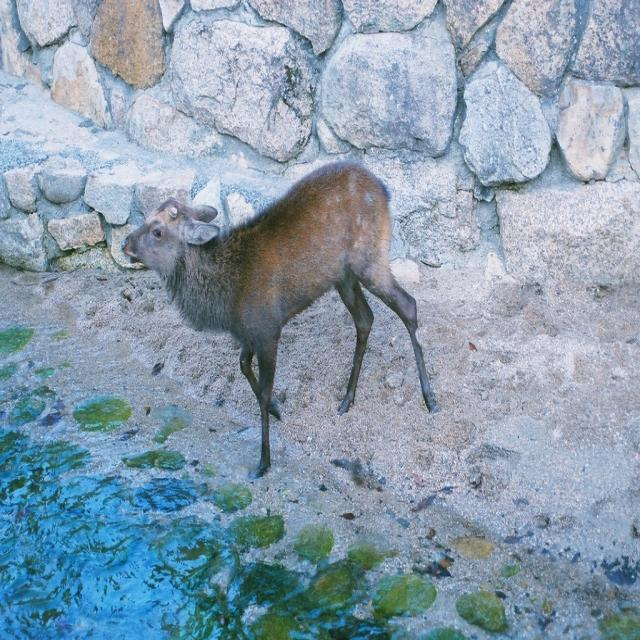Deer: (119, 158, 435, 482)
